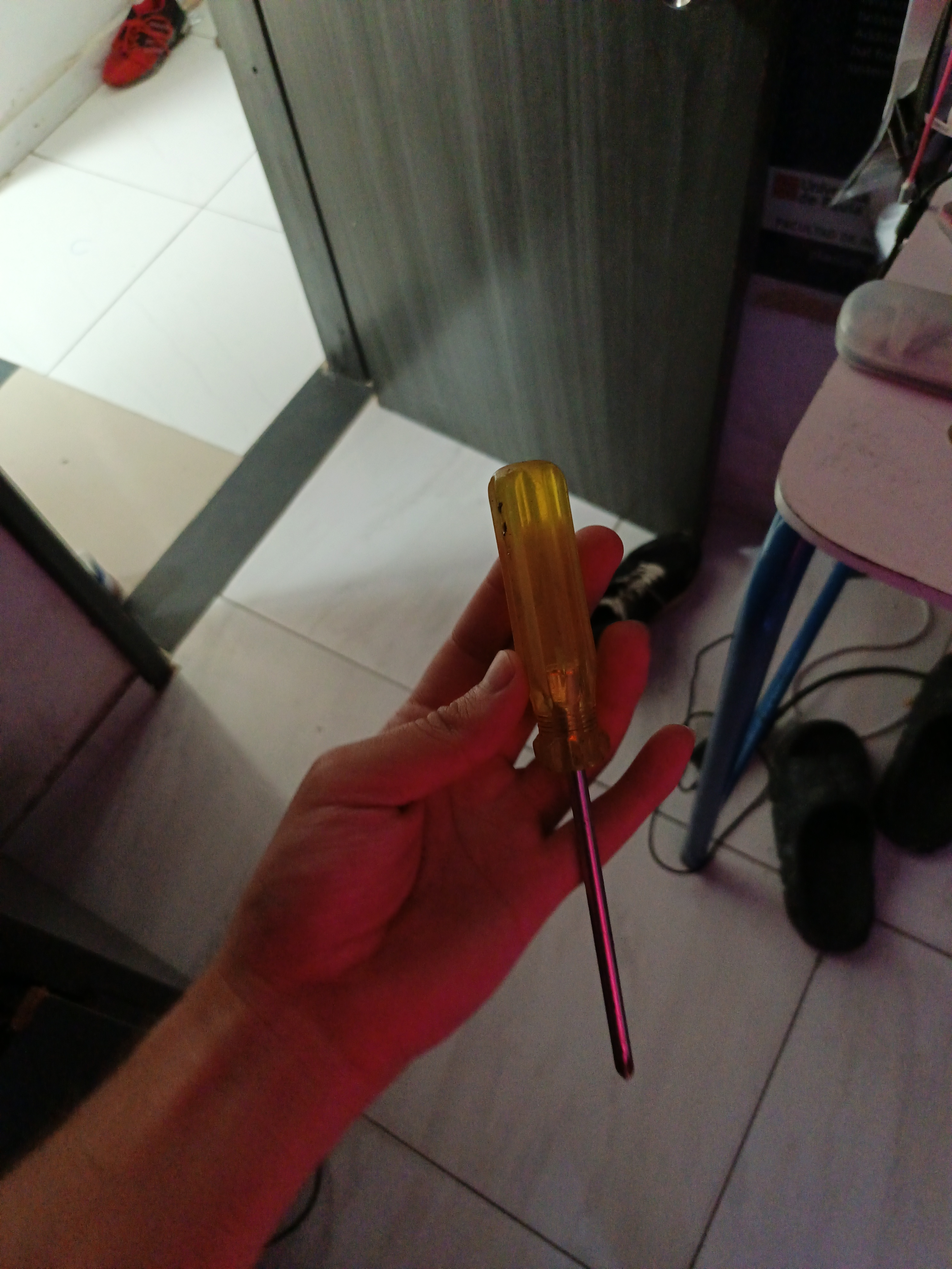Destornillador: (489, 461, 633, 1078)
